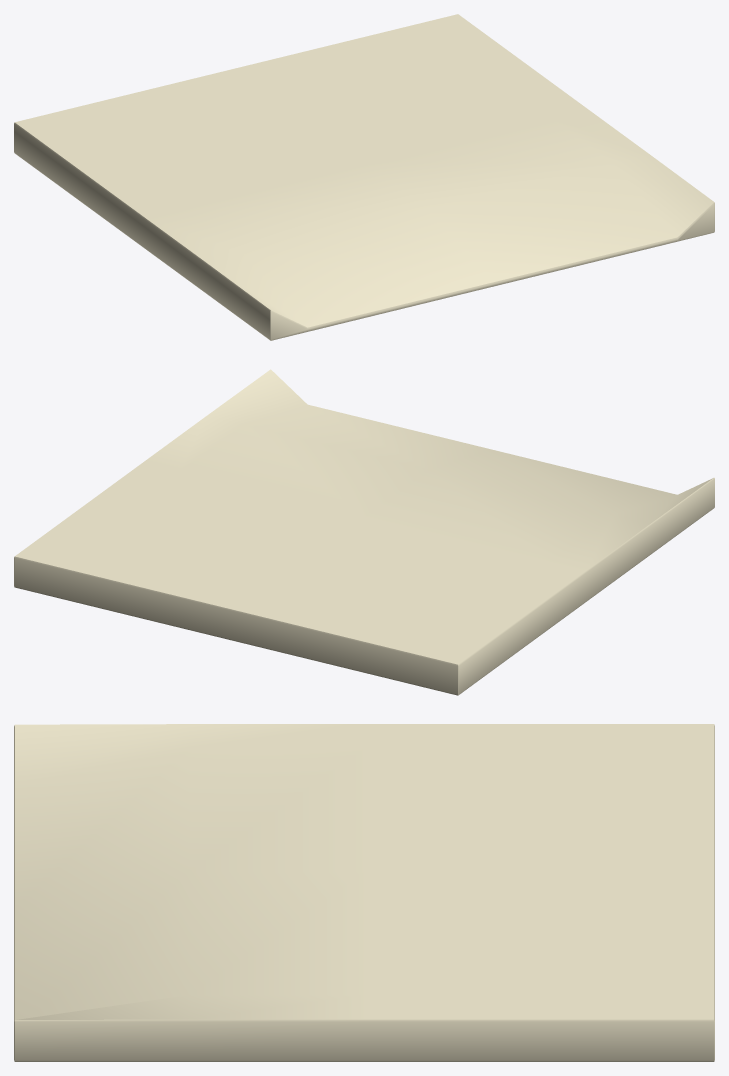
The model's file is Sidewalk_A_Ramp.fbx.
3 views of the same model, one above another, from view 1: azimuth 30°, elevation 25°; view 2: azimuth 150°, elevation 25°; view 3: azimuth 270°, elevation 25° (orthographic). The views are drawn at different scales.
Visible parts, largest first — view 1: Plane.009; view 2: Plane.009; view 3: Plane.009.
Boxes of the visible parts, <box> form: Plane.009: <box>14,14,714,340</box>; Plane.009: <box>14,369,714,695</box>; Plane.009: <box>14,724,714,1061</box>.
Size of the model in its own units: 300 by 20 by 300.
